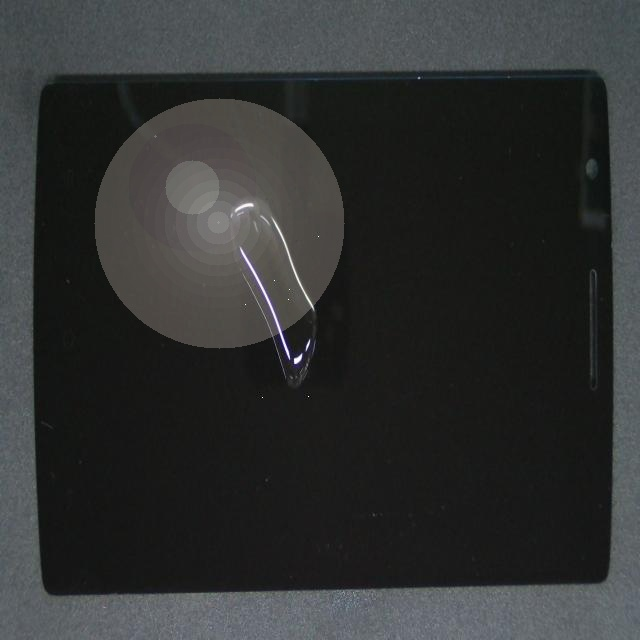oil: (140, 82, 366, 285)
